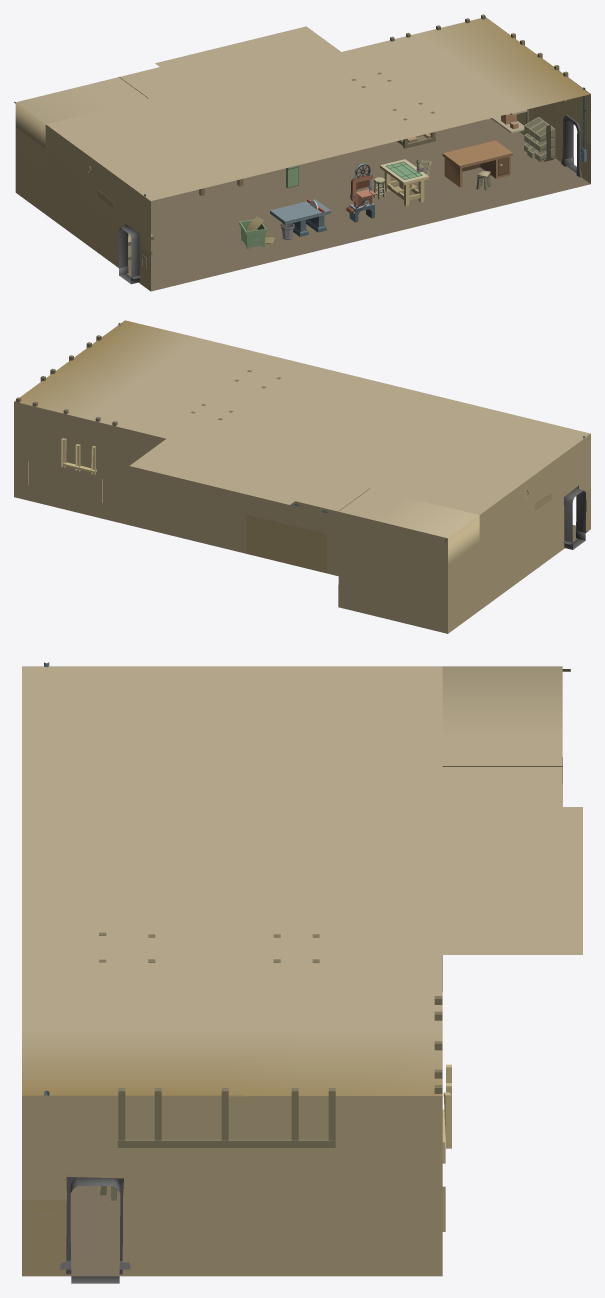
Rendered from MSH_Design_Factory_room_l2_R3_optimized.fbx.
The picture shows the model from 3 angles, top to bottom: view 1: azimuth 30°, elevation 25°; view 2: azimuth 150°, elevation 25°; view 3: azimuth 270°, elevation 25°; orthographic projection. The views are drawn at different scales.
Visible parts, largest first — view 1: lightmap0; view 2: lightmap0; view 3: lightmap0.
Boxes of the visible parts, x1,y1,x2,y2 form: lightmap0: [14, 14, 590, 291]; lightmap0: [14, 320, 590, 633]; lightmap0: [22, 662, 582, 1283].
Bounding box in the file's own units: 30.91 × 6.09 × 16.51.
